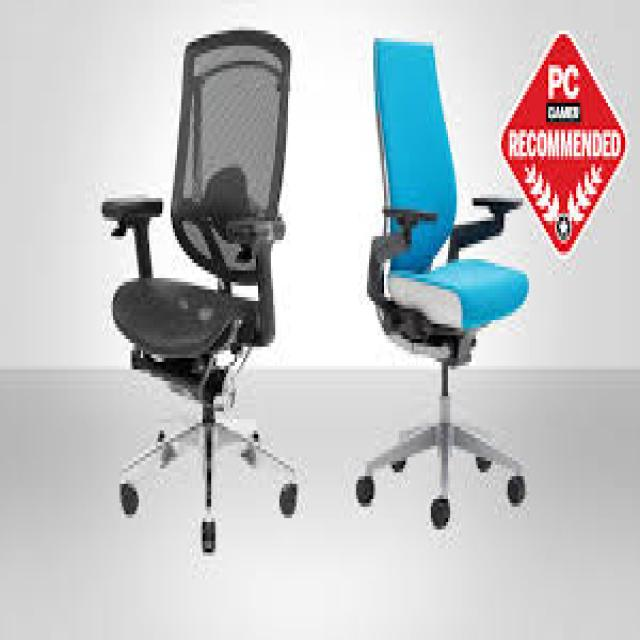chair: (49, 21, 320, 580), (310, 0, 551, 601)
